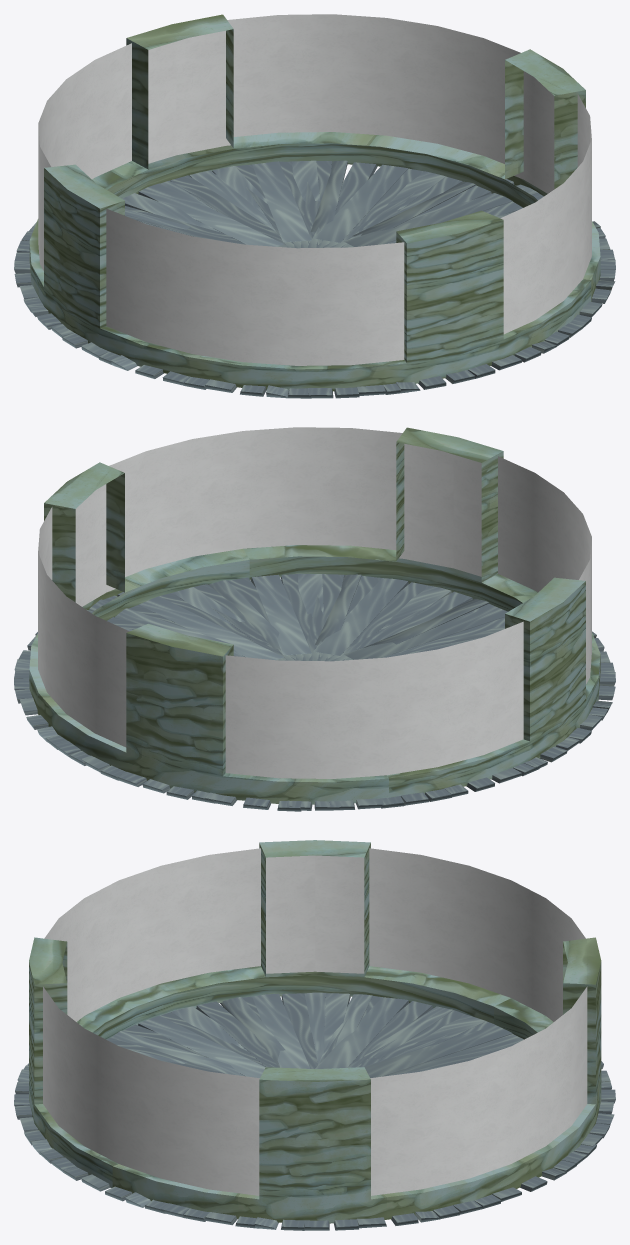
The model's file is TreeHouse.fbx.
3 renders of one model, top to bottom at view 1: azimuth 30°, elevation 25°; view 2: azimuth 150°, elevation 25°; view 3: azimuth 270°, elevation 25°, orthographic.
Visible parts, largest first — view 1: Cylinder; view 2: Cylinder; view 3: Cylinder.
Boxes of the visible parts, x1,y1,x2,y2 form: Cylinder: [14, 14, 615, 398]; Cylinder: [14, 427, 615, 811]; Cylinder: [14, 840, 615, 1230].
Bounding box in the file's own units: 22.53 × 5.92 × 22.53.
